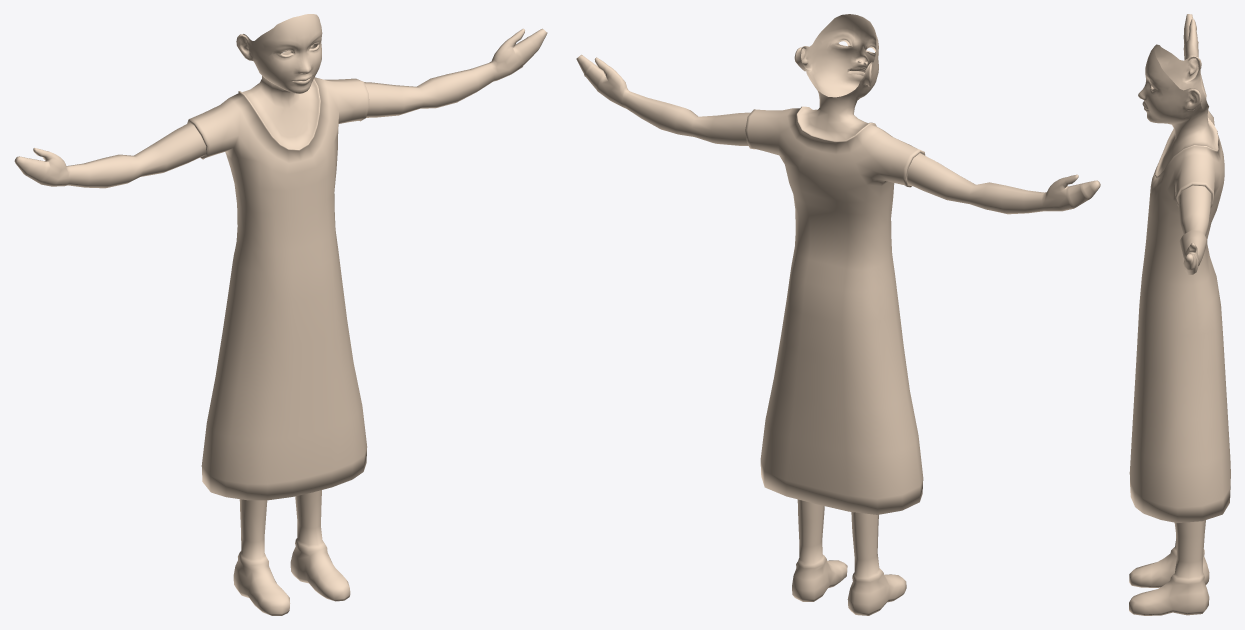
File: irlanabody.obj
3 renders of one model, left to right at view 1: azimuth 30°, elevation 25°; view 2: azimuth 150°, elevation 25°; view 3: azimuth 270°, elevation 25°, orthographic. The views are drawn at different scales.
Parts seen in each view (by area): view 1: Irlana:polySurface19 GEO Irlana1; view 2: Irlana:polySurface19 GEO Irlana1; view 3: Irlana:polySurface19 GEO Irlana1.
Boxes of the visible parts, left/top/right/bottom form: Irlana:polySurface19 GEO Irlana1: left=14, top=14, right=547, bottom=615; Irlana:polySurface19 GEO Irlana1: left=576, top=14, right=1100, bottom=615; Irlana:polySurface19 GEO Irlana1: left=1129, top=14, right=1230, bottom=615.
Size of the model in its own units: 9879 by 10359 by 1747.
